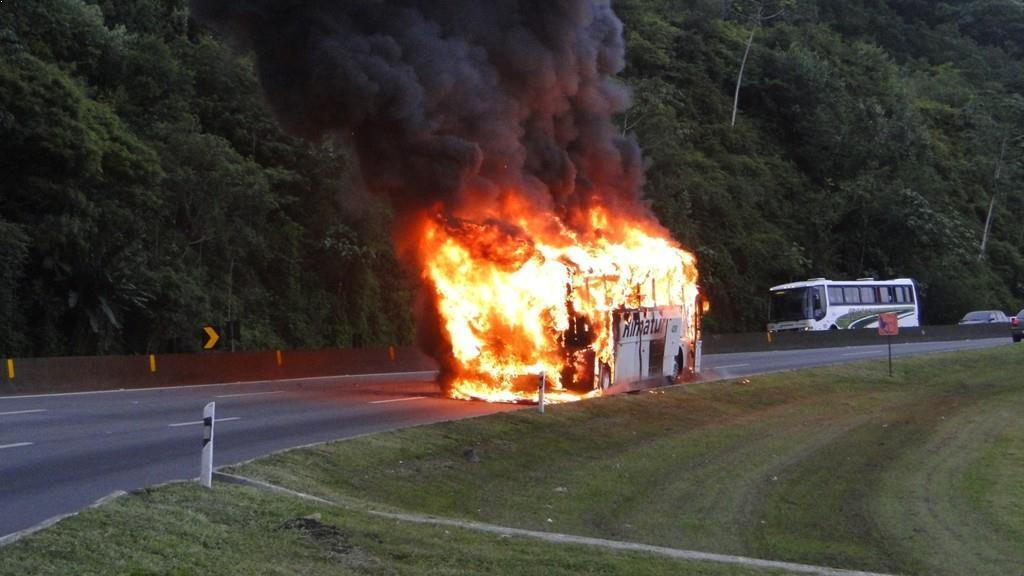fire: (437, 233, 697, 373)
smoke: (366, 39, 621, 177)
